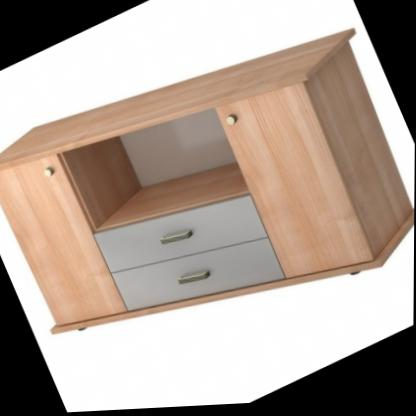Sideboard: (0, 32, 415, 336)
